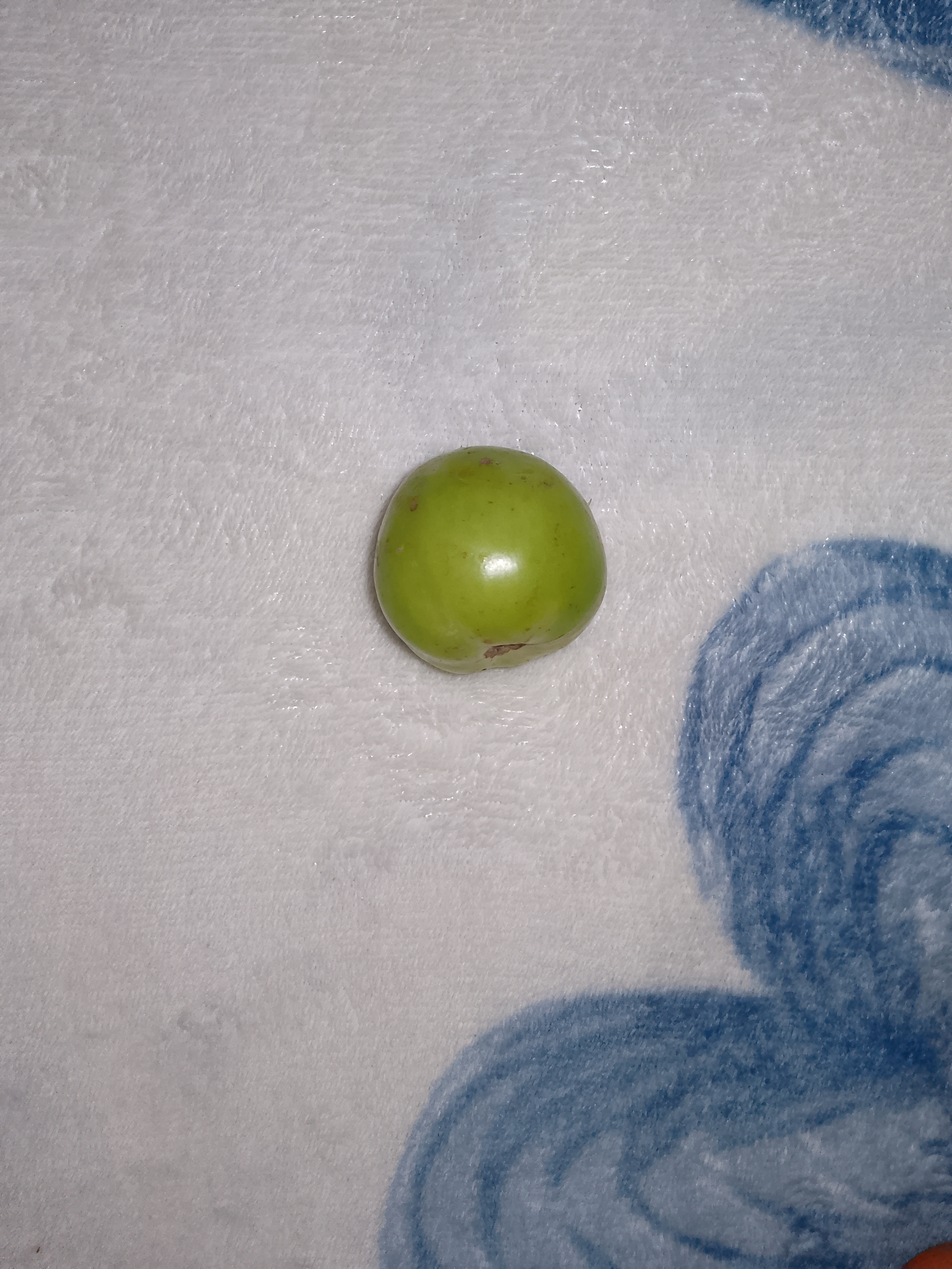Unripe: (343, 428, 654, 698)
